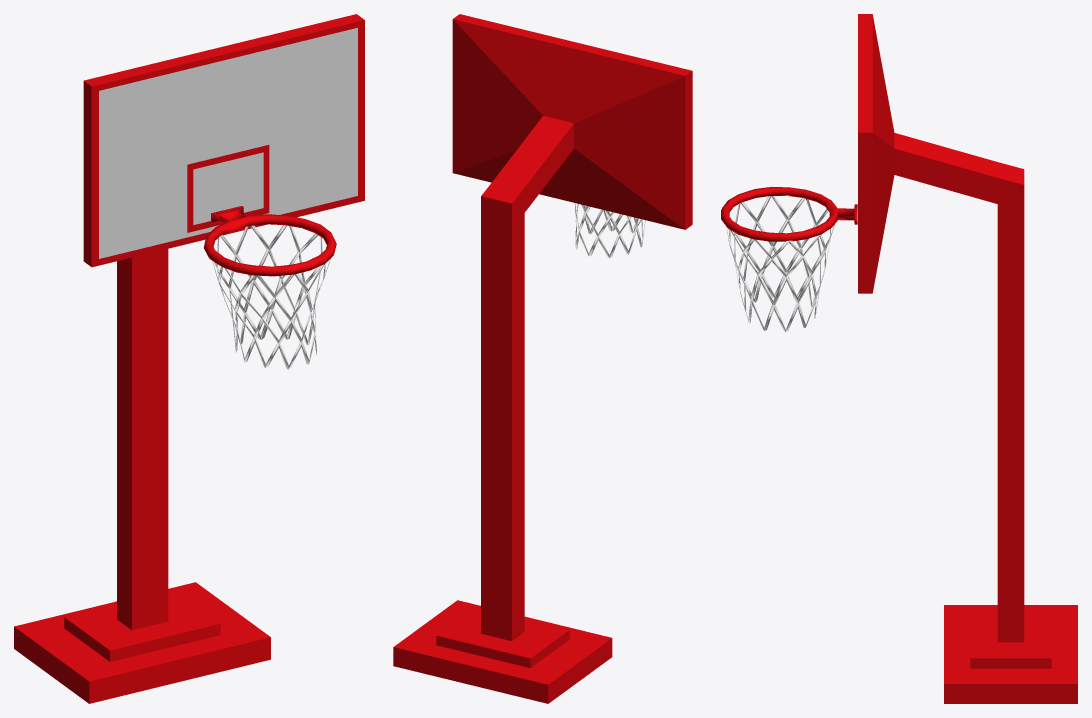
The model's file is basket.fbx.
3 views of the same model, side by side, from view 1: azimuth 30°, elevation 25°; view 2: azimuth 150°, elevation 25°; view 3: azimuth 270°, elevation 25° (orthographic). The views are drawn at different scales.
Parts seen in each view (by area): view 1: Basket_stand, Basket_net, Basket_hoop; view 2: Basket_stand, Basket_net; view 3: Basket_stand, Basket_net, Basket_hoop.
Boxes of the visible parts, left/top/right/bottom form: Basket_stand: left=14, top=14, right=364, bottom=703; Basket_net: left=212, top=225, right=330, bottom=369; Basket_hoop: left=204, top=206, right=336, bottom=276; Basket_stand: left=393, top=14, right=692, bottom=703; Basket_net: left=574, top=203, right=645, bottom=258; Basket_stand: left=858, top=14, right=1077, bottom=703; Basket_net: left=726, top=195, right=834, bottom=331; Basket_hoop: left=721, top=187, right=857, bottom=241.
Size of the model in its own units: 122 by 283 by 155.
